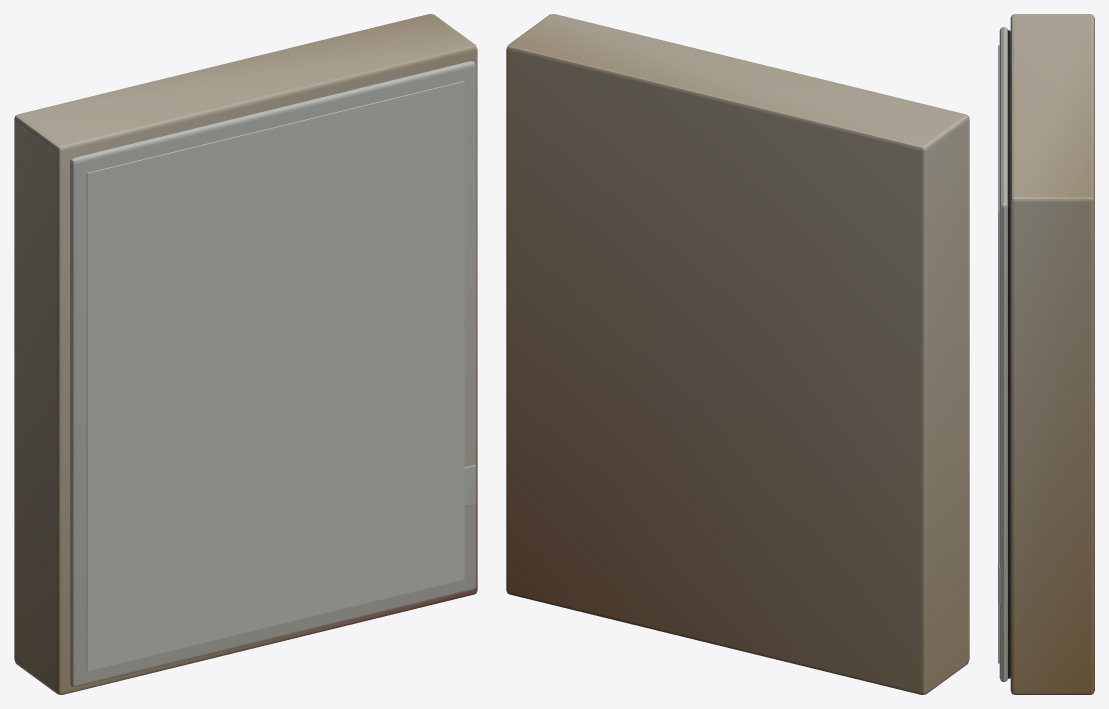
File: mirror_cabinet.glb
The picture shows the model from 3 angles, left to right: view 1: azimuth 30°, elevation 25°; view 2: azimuth 150°, elevation 25°; view 3: azimuth 270°, elevation 25°; orthographic projection. The views are drawn at different scales.
Parts seen in each view (by area): view 1: mirror_cabinet_glass, mirror_cabinet_metal; view 2: mirror_cabinet_metal; view 3: mirror_cabinet_metal, mirror_cabinet_glass.
Part boxes in pixels (left/top/right/bottom): mirror_cabinet_glass: left=86, top=81, right=464, bottom=671; mirror_cabinet_metal: left=14, top=14, right=477, bottom=694; mirror_cabinet_metal: left=506, top=14, right=969, bottom=694; mirror_cabinet_metal: left=998, top=14, right=1094, bottom=694; mirror_cabinet_glass: left=998, top=45, right=999, bottom=663.
Size of the model in its own units: 0.6001 by 0.75 by 0.1321.
